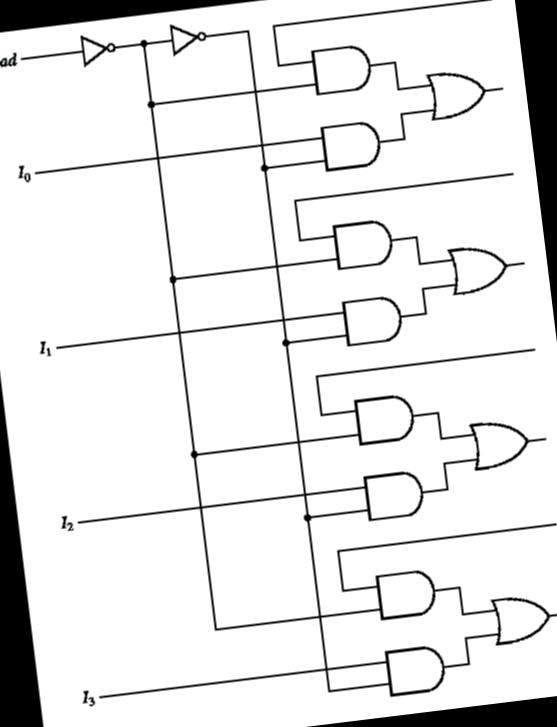and: (336, 376, 422, 457), (304, 104, 397, 178), (320, 206, 410, 282), (296, 26, 384, 102), (360, 558, 448, 634), (324, 284, 418, 355), (347, 459, 439, 531), (368, 635, 458, 706)
not: (150, 9, 228, 65), (59, 21, 132, 74)
or: (407, 54, 496, 132), (453, 406, 538, 481), (435, 232, 521, 306), (473, 580, 557, 655)
